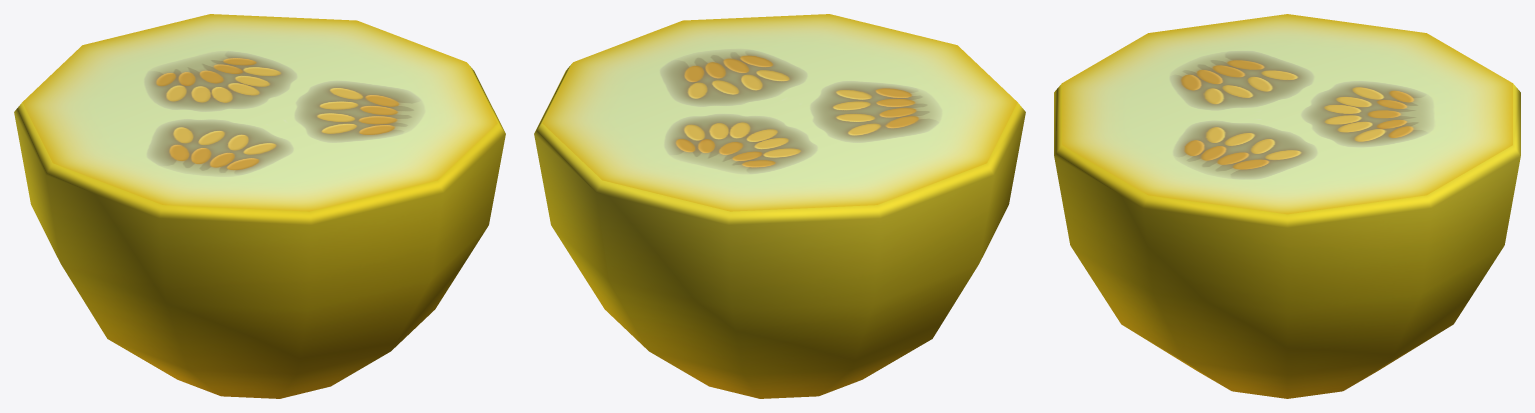
Rendered from YellowMelon_Half.fbx.
The picture shows the model from 3 angles, left to right: view 1: azimuth 30°, elevation 25°; view 2: azimuth 150°, elevation 25°; view 3: azimuth 270°, elevation 25°; orthographic projection.
Visible parts, largest first — view 1: YellowMelon_Half; view 2: YellowMelon_Half; view 3: YellowMelon_Half.
Part boxes in pixels (x1=…): YellowMelon_Half: x1=14, y1=14, x2=505, y2=398; YellowMelon_Half: x1=534, y1=14, x2=1025, y2=398; YellowMelon_Half: x1=1054, y1=14, x2=1520, y2=398.
Size of the model in its own units: 51.48 by 30.67 by 48.96.
1 material, 1 textured.
